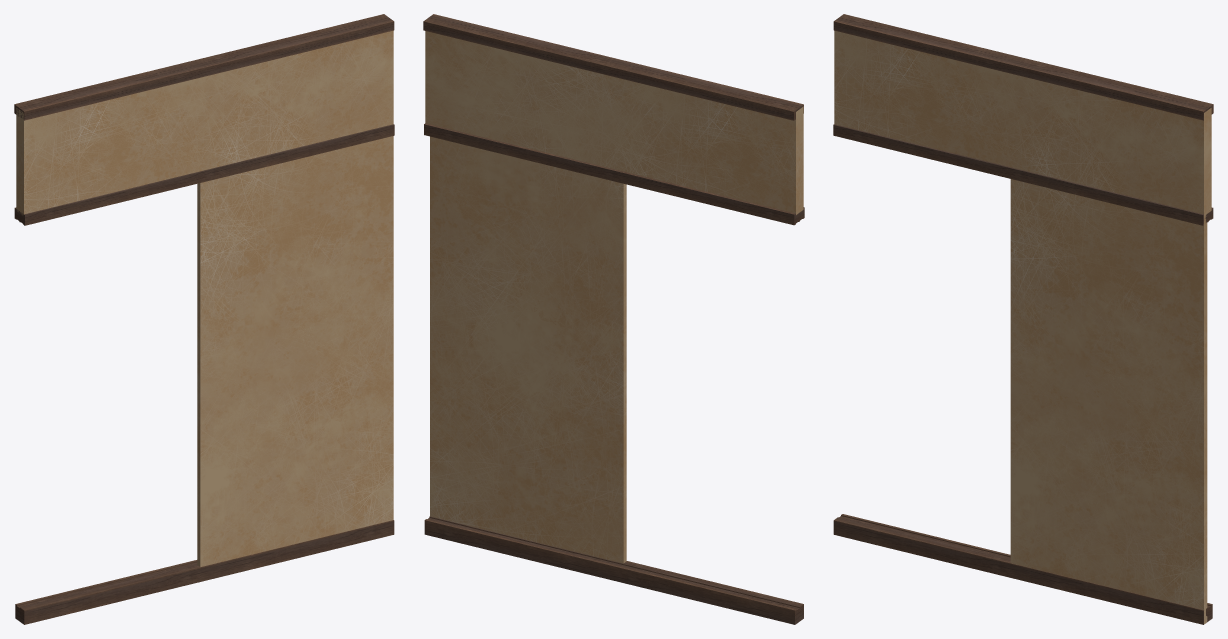
File: inwall_to_1t03.fbx
3 renders of one model, left to right at view 1: azimuth 30°, elevation 25°; view 2: azimuth 150°, elevation 25°; view 3: azimuth 330°, elevation 25°, orthographic.
Parts seen in each view (by area): view 1: inwall_to_1t03; view 2: inwall_to_1t03; view 3: inwall_to_1t03.
Boxes of the visible parts, bbox=[...] form: inwall_to_1t03: bbox=[14, 14, 394, 624]; inwall_to_1t03: bbox=[423, 14, 804, 624]; inwall_to_1t03: bbox=[833, 14, 1213, 624].
Bounding box in the file's own units: 220 × 292 × 10.93.
